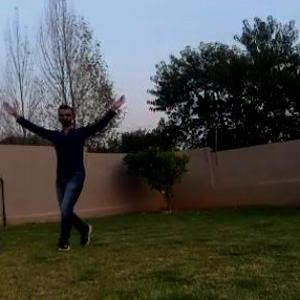takeoff: (5, 92, 125, 254)
